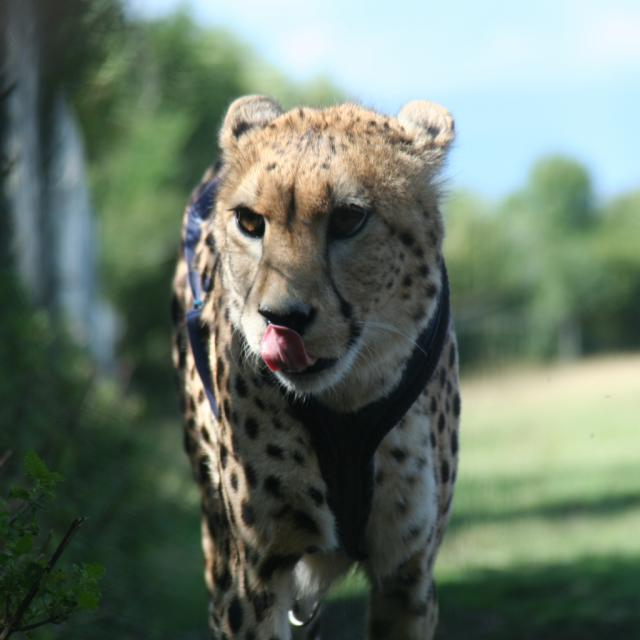Cheetah: (171, 95, 463, 640)
